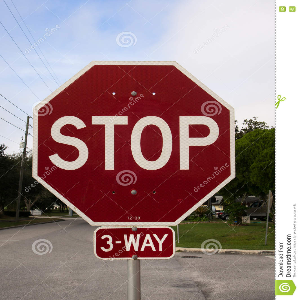STOP_SIGN: (32, 61, 235, 226)
